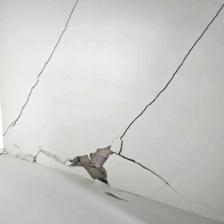Medium: (66, 37, 196, 200)
